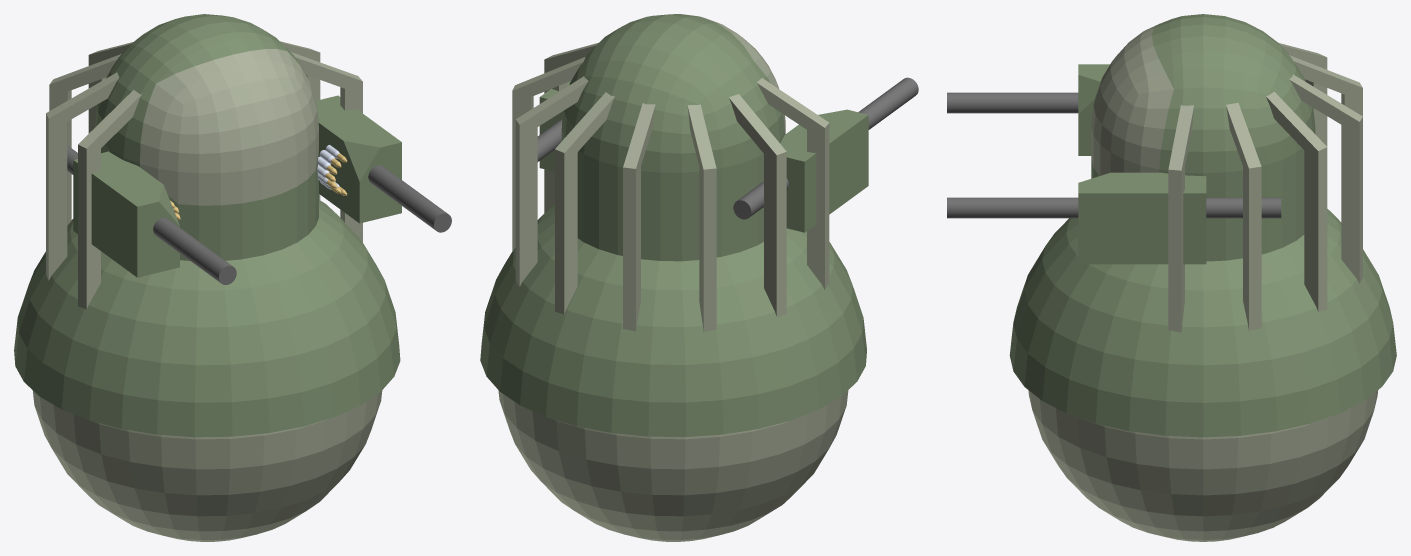
Rendered from SmallMechExport3.fbx.
The picture shows the model from 3 angles, left to right: view 1: azimuth 30°, elevation 25°; view 2: azimuth 150°, elevation 25°; view 3: azimuth 270°, elevation 25°; orthographic projection.
Parts seen in each view (by area): view 1: LightMechExterior, AmmoL; view 2: LightMechExterior; view 3: LightMechExterior.
Part boxes in pixels (bbox=[...]): LightMechExterior: bbox=[14, 14, 451, 541]; AmmoL: bbox=[317, 145, 347, 195]; LightMechExterior: bbox=[480, 14, 918, 541]; LightMechExterior: bbox=[947, 14, 1396, 541].
Size of the model in its own units: 577 by 825 by 671.
